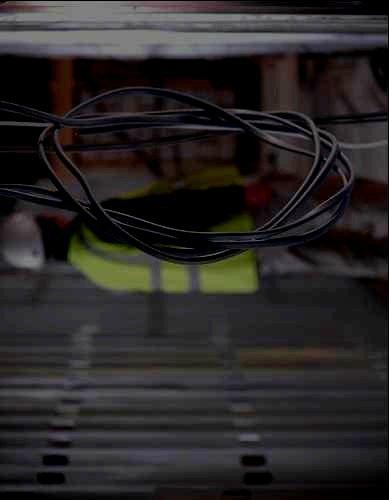helmet: (1, 209, 73, 273)
